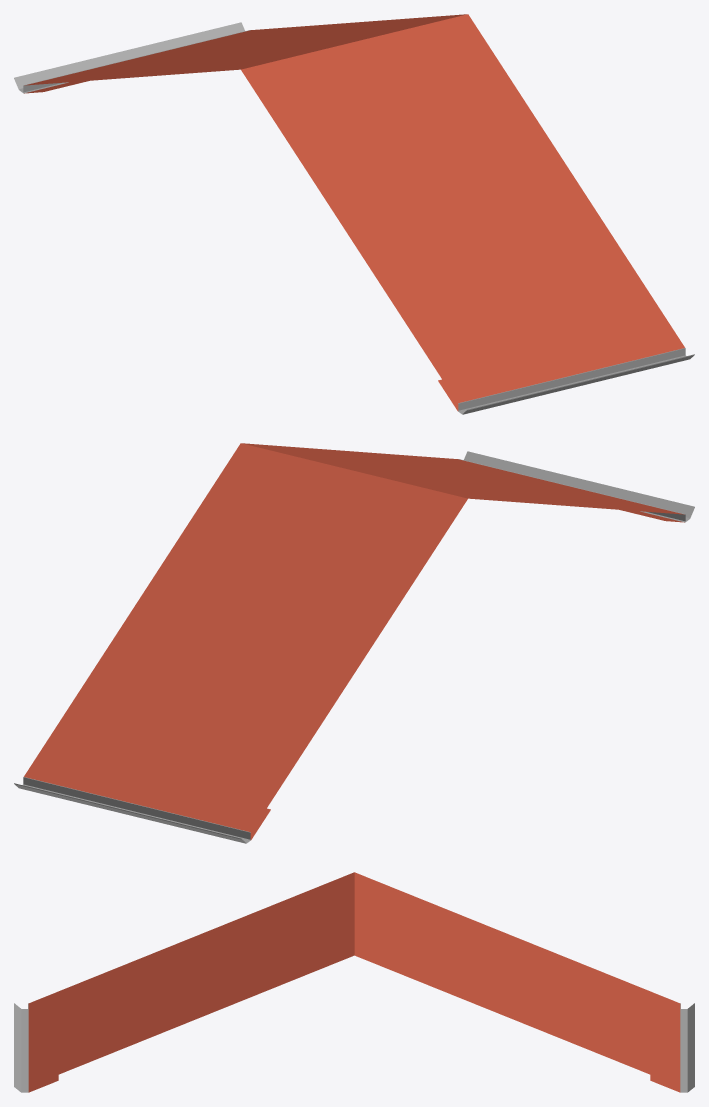
Rendered from MESH_ENV(Telhado_3x9).fbx.
The picture shows the model from 3 angles, top to bottom: view 1: azimuth 30°, elevation 25°; view 2: azimuth 150°, elevation 25°; view 3: azimuth 270°, elevation 25°; orthographic projection. The views are drawn at different scales.
Parts seen in each view (by area): view 1: MESH_ENV(Telhado_3x9)_LOD0; view 2: MESH_ENV(Telhado_3x9)_LOD0; view 3: MESH_ENV(Telhado_3x9)_LOD0.
Boxes of the visible parts, x1,y1,x2,y2 form: MESH_ENV(Telhado_3x9)_LOD0: (14,14,694,414); MESH_ENV(Telhado_3x9)_LOD0: (14,443,694,843); MESH_ENV(Telhado_3x9)_LOD0: (14,872,694,1092).
Bounding box in the file's own units: 300 × 230 × 1036.
